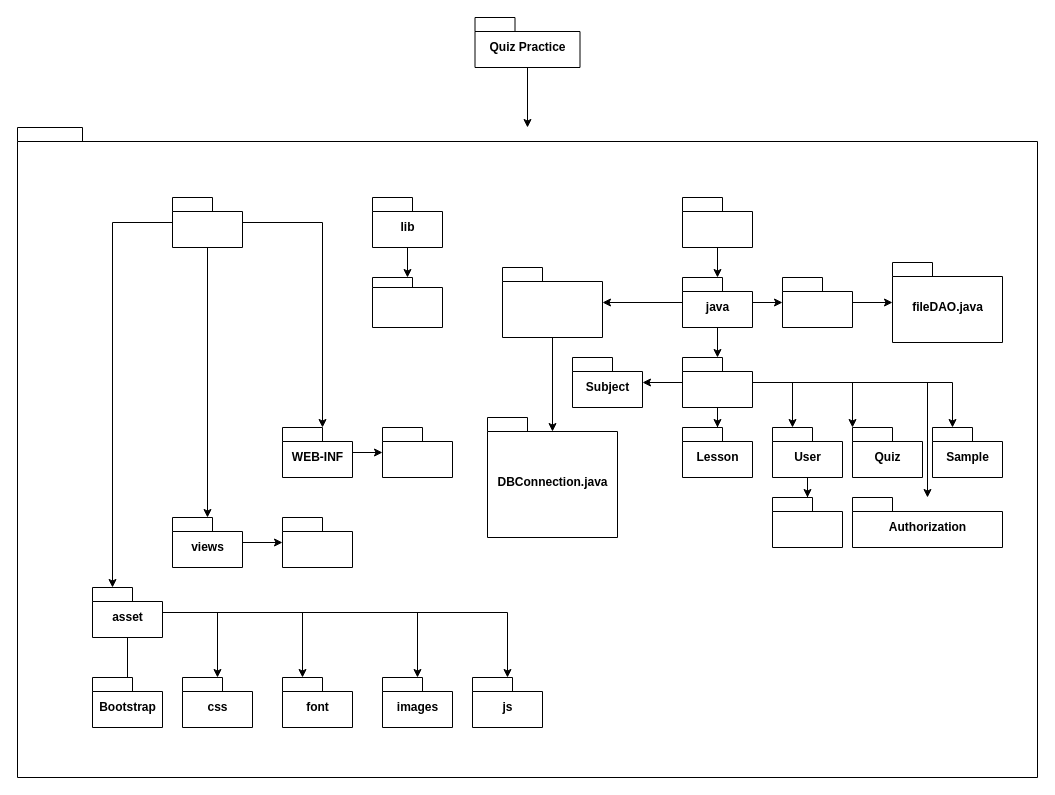
This 1055x795 diagram has some shape labels left out. Here are the shapes that lost their labels. From the top down, the centre of each, then its label:
At point 207,222: "web".
At point 717,222: "src".
At point 407,302: "library.jar".
At point 552,302: "DBConnection".
At point 817,302: "DAO".
At point 717,382: "Controller".
At point 417,452: "web.xml".
At point 317,542: "file.jsp".
At point 807,522: "Admin".
